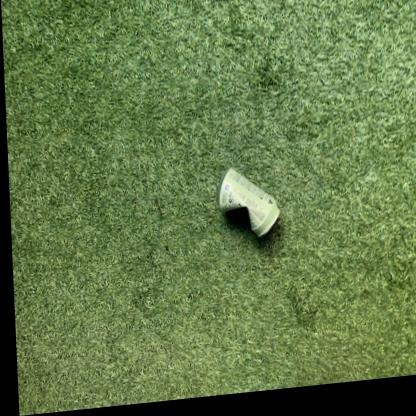trash: (219, 168, 279, 236)
